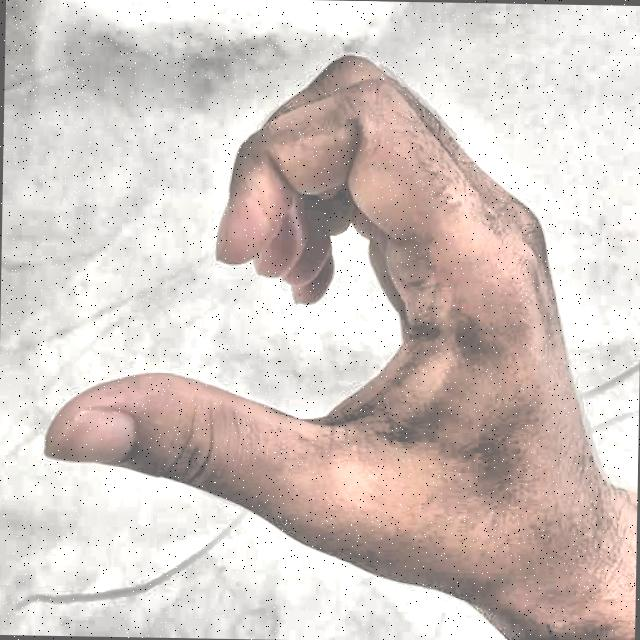Kha: (19, 5, 620, 606)
